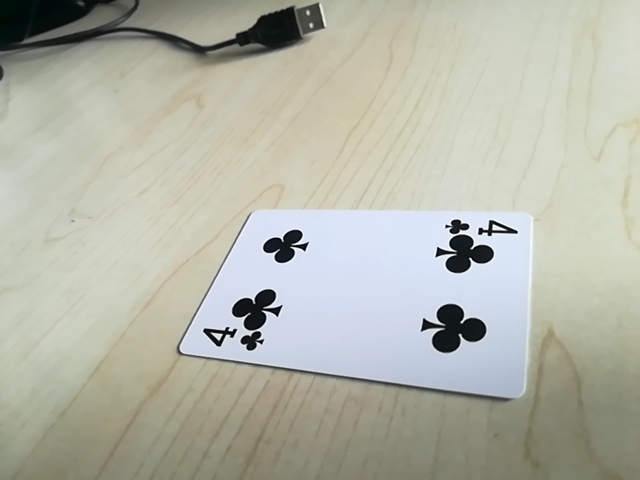mh 4: (194, 321, 273, 353), (441, 215, 520, 242)
